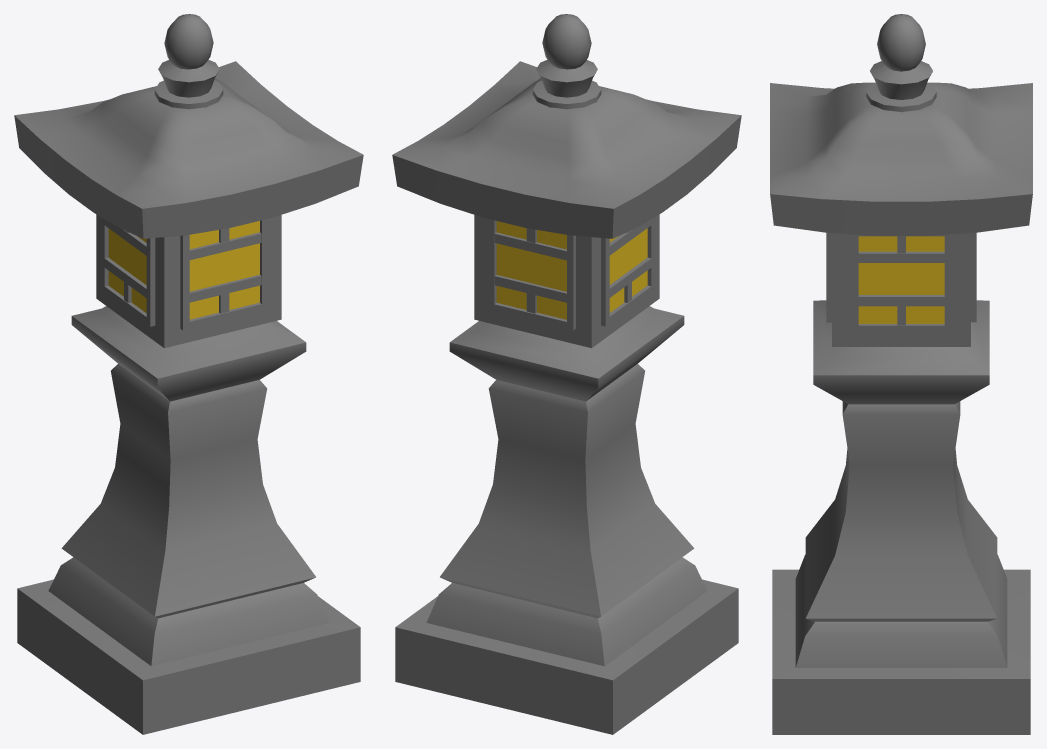
Rendered from SM_stonelantern_01.fbx.
3 renders of one model, left to right at view 1: azimuth 30°, elevation 25°; view 2: azimuth 150°, elevation 25°; view 3: azimuth 270°, elevation 25°, orthographic. The views are drawn at different scales.
Visible parts, largest first — view 1: Box038; view 2: Box038; view 3: Box038.
Part boxes in pixels (left/top/right/bottom): Box038: left=14, top=14, right=363, bottom=734; Box038: left=392, top=14, right=741, bottom=734; Box038: left=770, top=14, right=1032, bottom=734.
Size of the model in its own units: 19.69 by 54.95 by 19.69.
